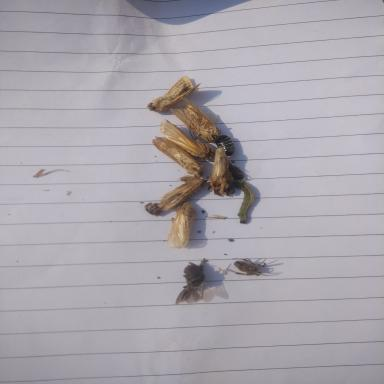abw: (148, 132, 205, 176), (167, 100, 221, 143), (158, 117, 212, 160), (146, 73, 202, 113), (158, 172, 209, 211), (167, 202, 200, 250), (207, 146, 232, 201)
